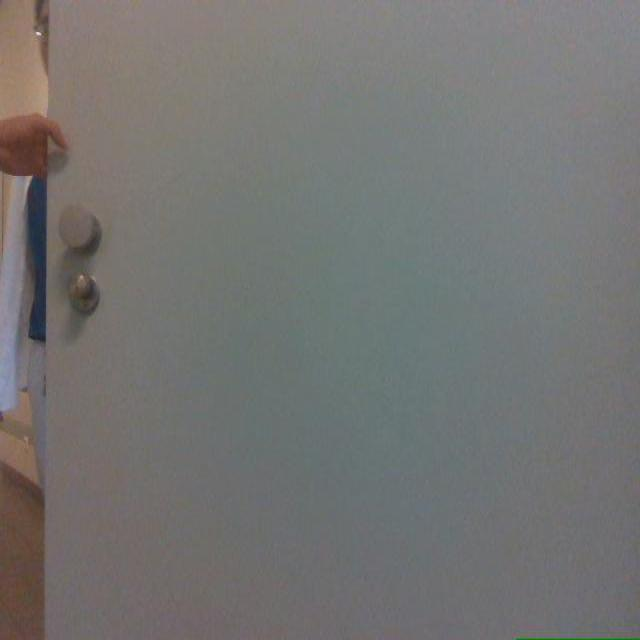humans: (0, 115, 66, 493), (0, 113, 67, 176), (33, 0, 48, 76)
objects: (46, 0, 639, 639)
